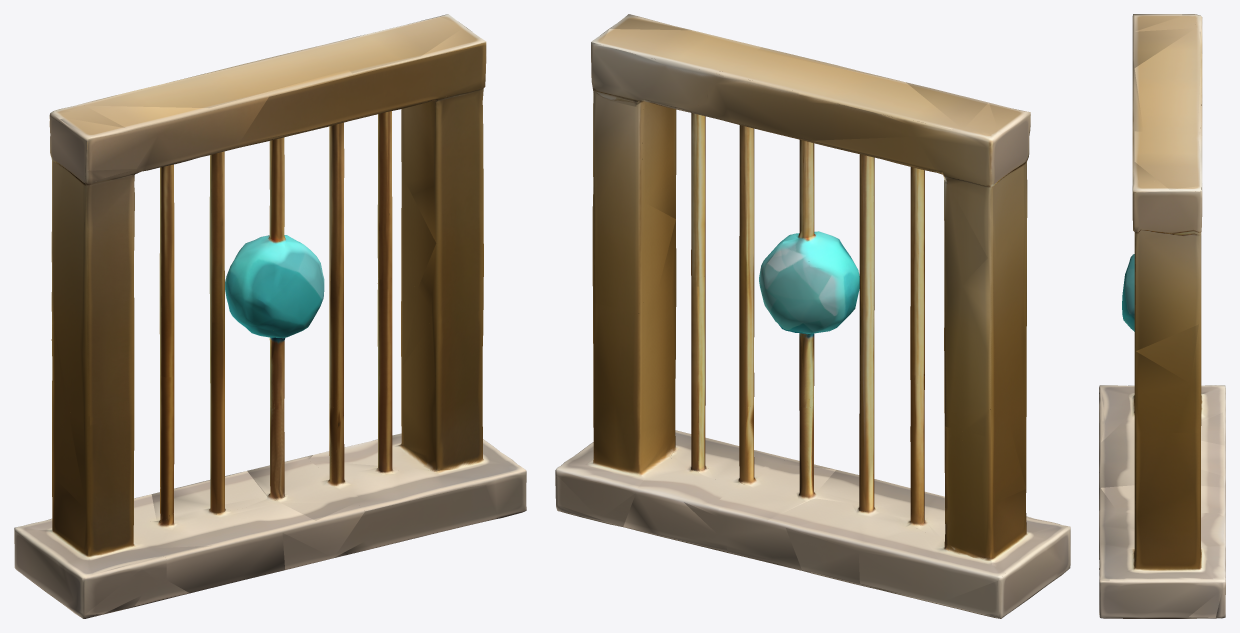
File: gate.glb
The picture shows the model from 3 angles, left to right: view 1: azimuth 30°, elevation 25°; view 2: azimuth 150°, elevation 25°; view 3: azimuth 270°, elevation 25°; orthographic projection. The views are drawn at different scales.
Parts seen in each view (by area): view 1: model.020; view 2: model.020; view 3: model.020.
Part boxes in pixels (left/top/right/bottom): model.020: left=14, top=14, right=526, bottom=618; model.020: left=555, top=14, right=1070, bottom=618; model.020: left=1099, top=14, right=1225, bottom=618.
Size of the model in its own units: 1.82 by 1.81 by 0.4962.
1 material, 1 textured.
